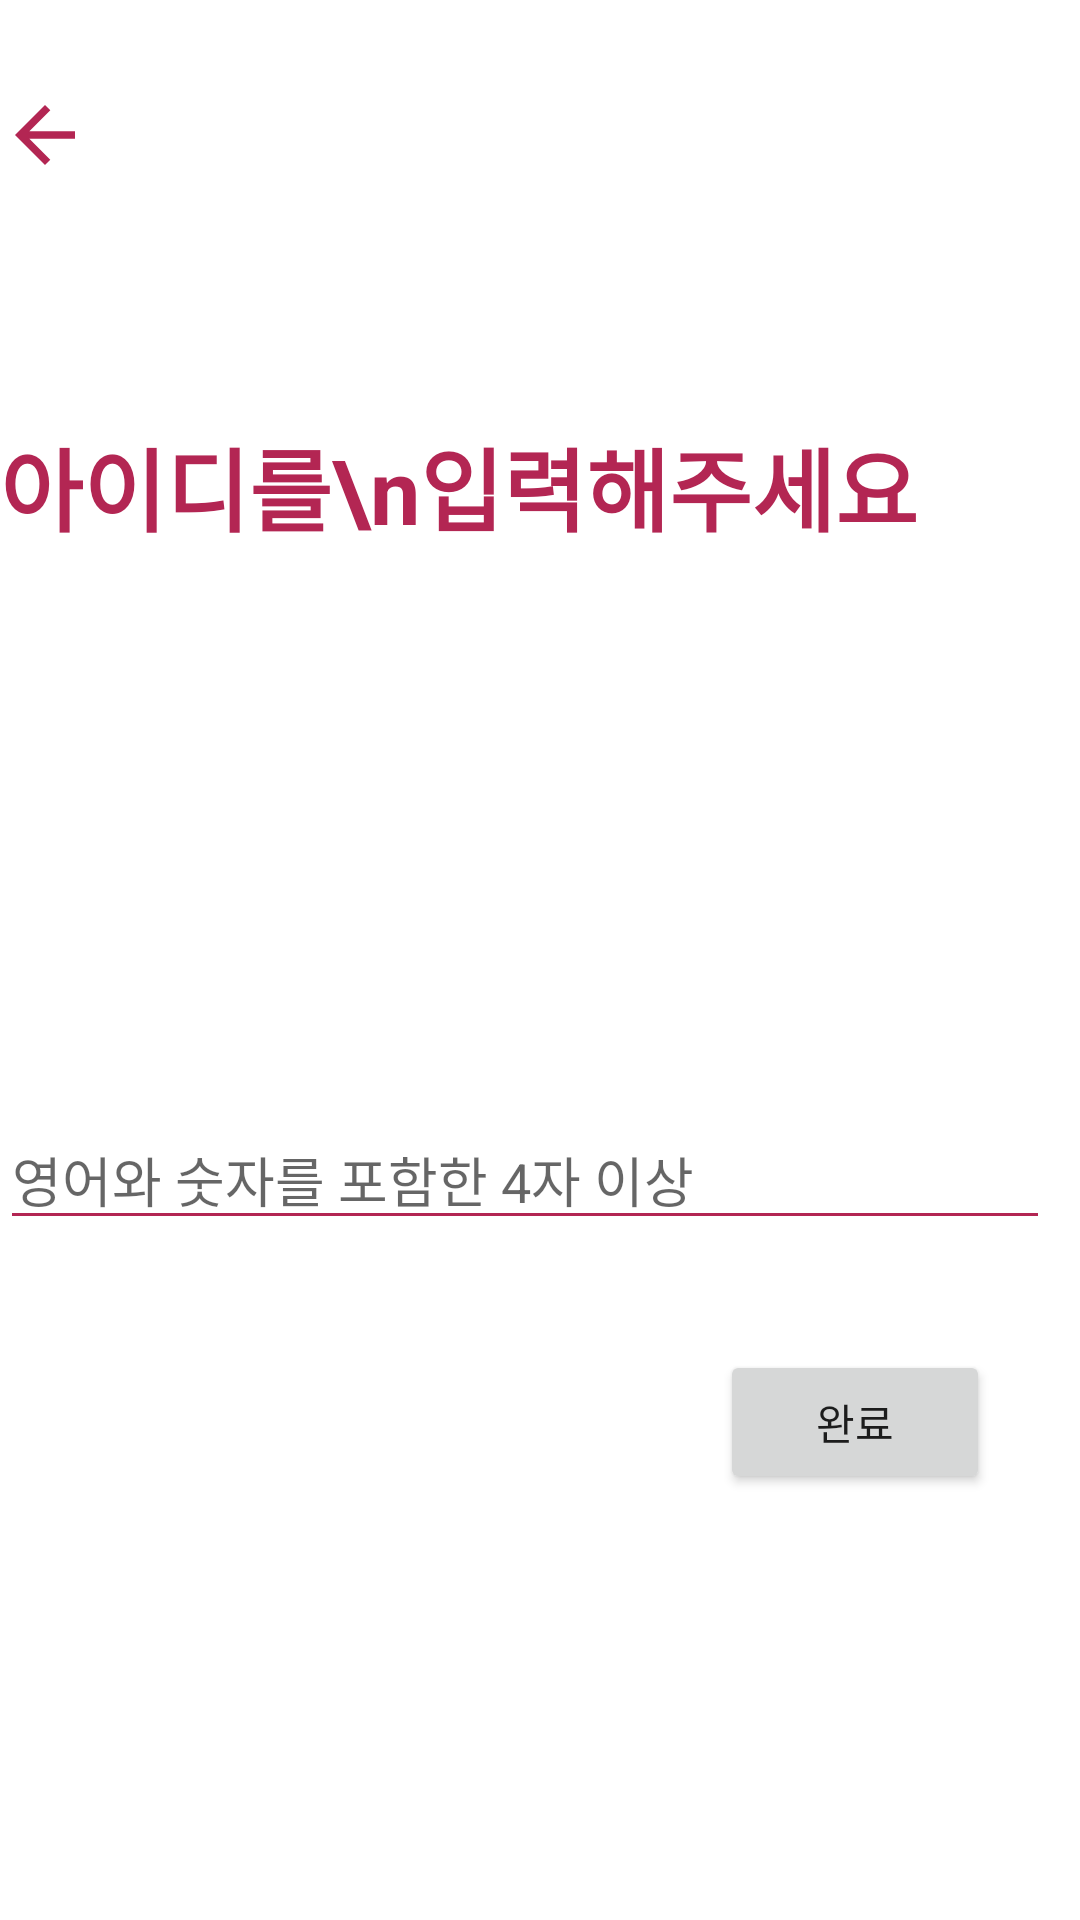

Named icons in this screenshot (1080*1920) and their centers, point (x, y):
arrow back: point (45, 135)
